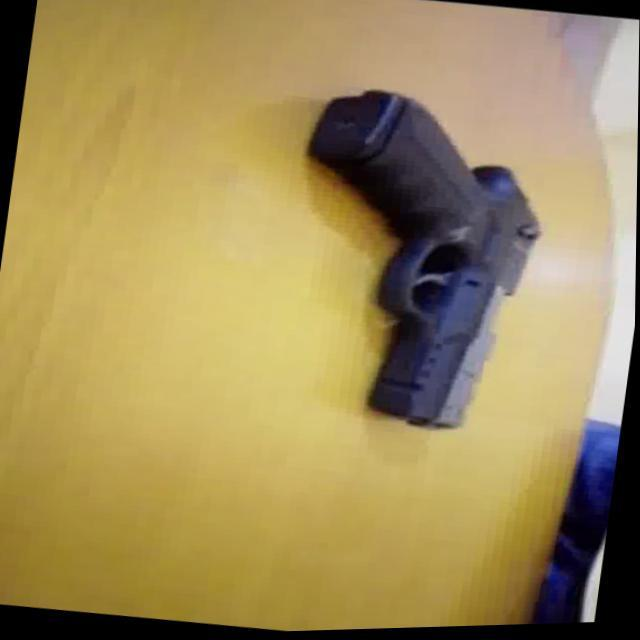weapon: (270, 78, 560, 445)
